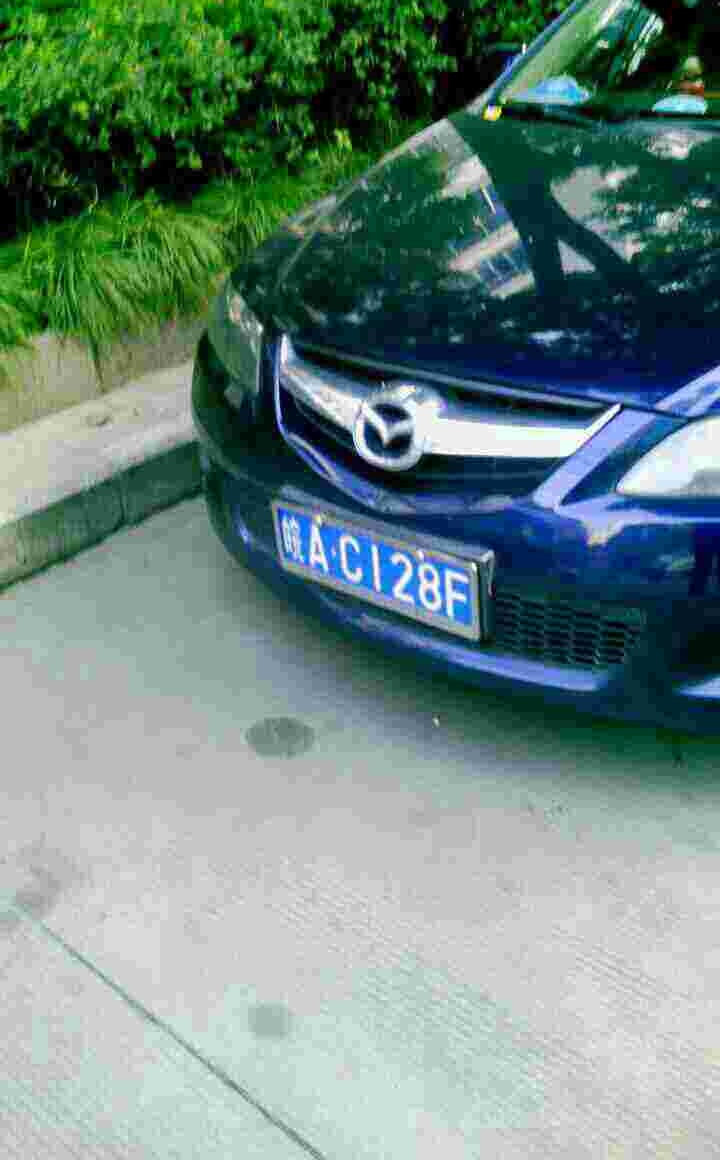license_plate: (267, 502, 478, 623)
